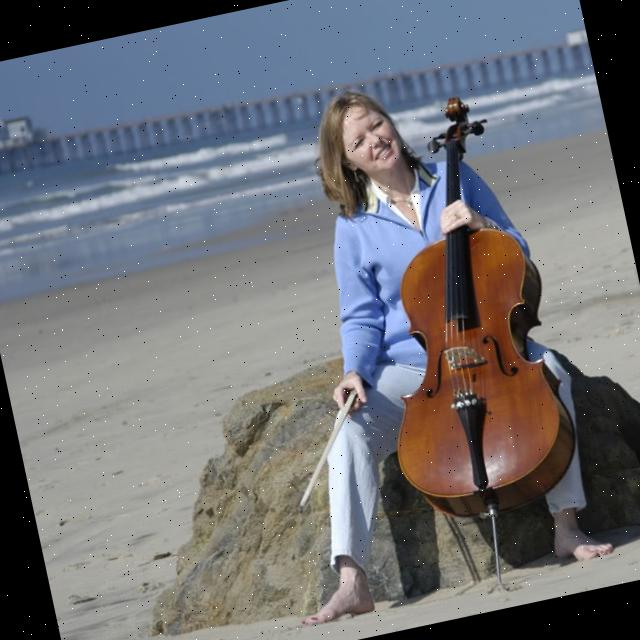cello: (324, 84, 590, 526)
